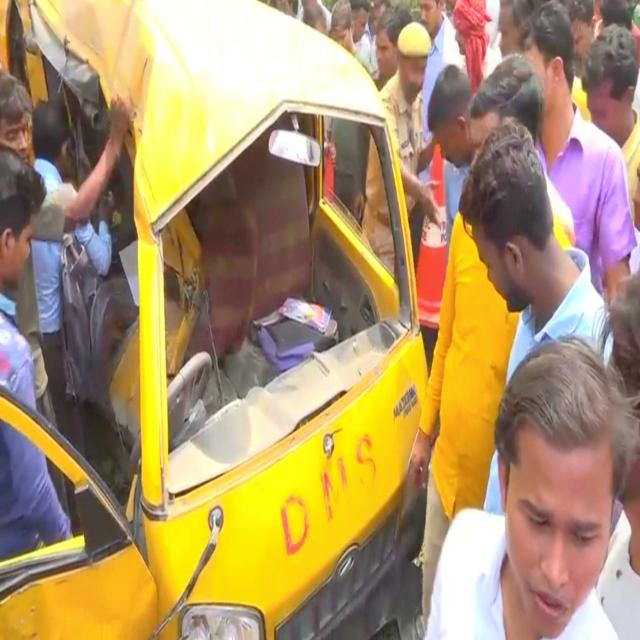accident: (0, 0, 426, 638)
